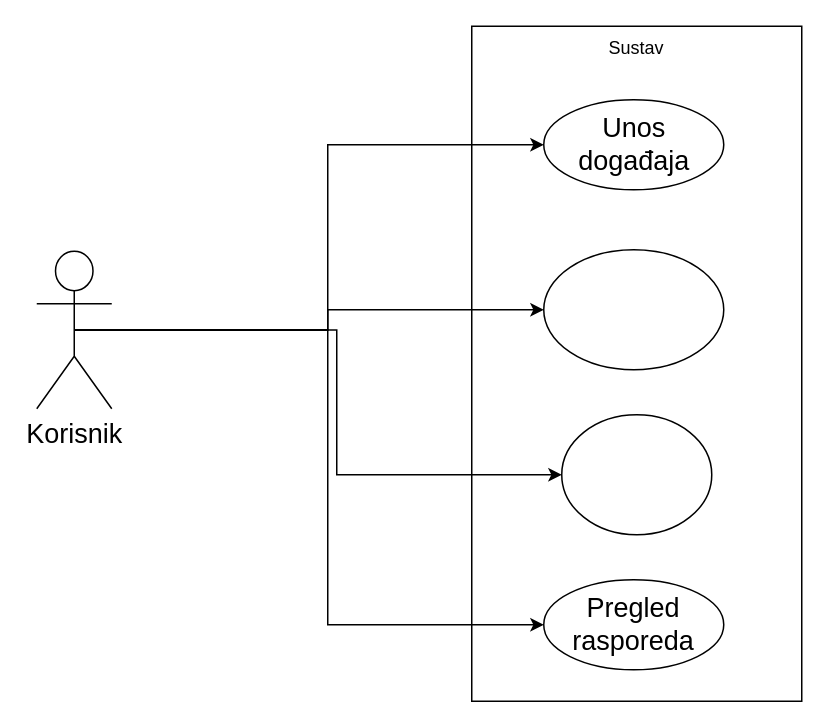
Some shapes in this 828 by 728 pixel diagram are drawn without their labels. Here are the shapes that lost their labels. From the top down, the centre of each, then its label:
At pixel 633 309: "Ažuriranje događaja".
At pixel 636 474: "Brisanje događaja".
